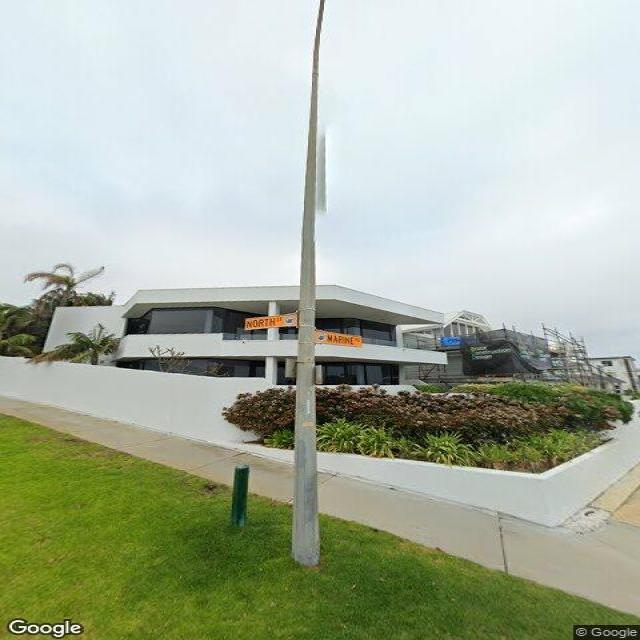steel-pole: (291, 72, 319, 567)
